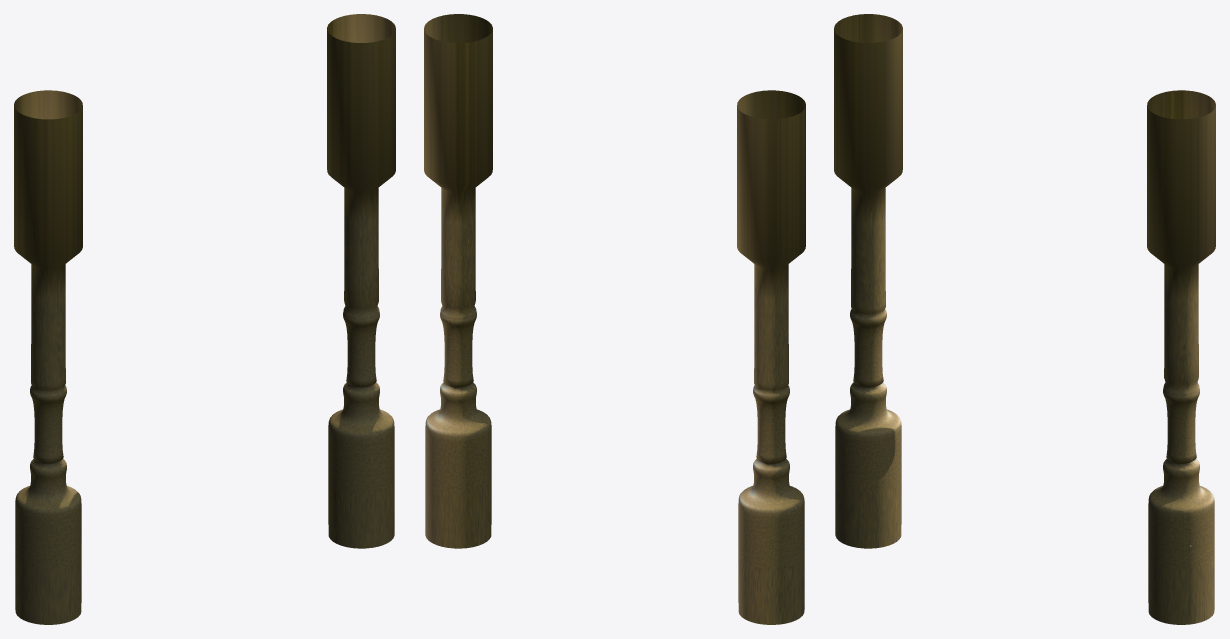
Rendered from scenery_block_1.glb.
3 renders of one model, left to right at view 1: azimuth 30°, elevation 25°; view 2: azimuth 150°, elevation 25°; view 3: azimuth 330°, elevation 25°, orthographic.
Parts seen in each view (by area): view 1: SceneryBlock1; view 2: SceneryBlock1; view 3: SceneryBlock1.
Part boxes in pixels (x1,y1,x2,y2): SceneryBlock1: (14, 14, 395, 624); SceneryBlock1: (424, 14, 805, 624); SceneryBlock1: (834, 14, 1215, 624).
Bounding box in the file's own units: 20.79 × 26.96 × 3.34.
Materials: 1 (1 with a texture image).
